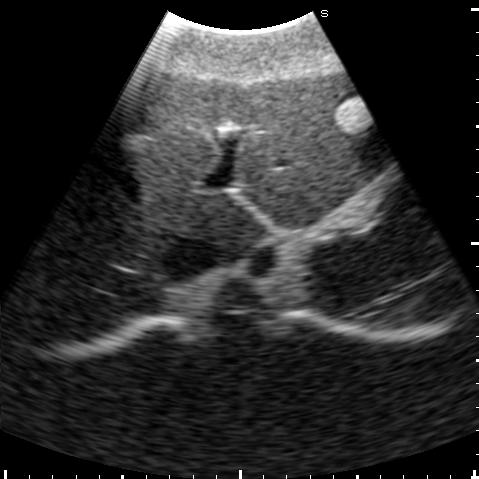IVC: (159, 237, 234, 280)
S1: (196, 195, 269, 251)
S2: (240, 156, 394, 230)
S3: (223, 70, 390, 195)
Tumor: (329, 98, 369, 131)
